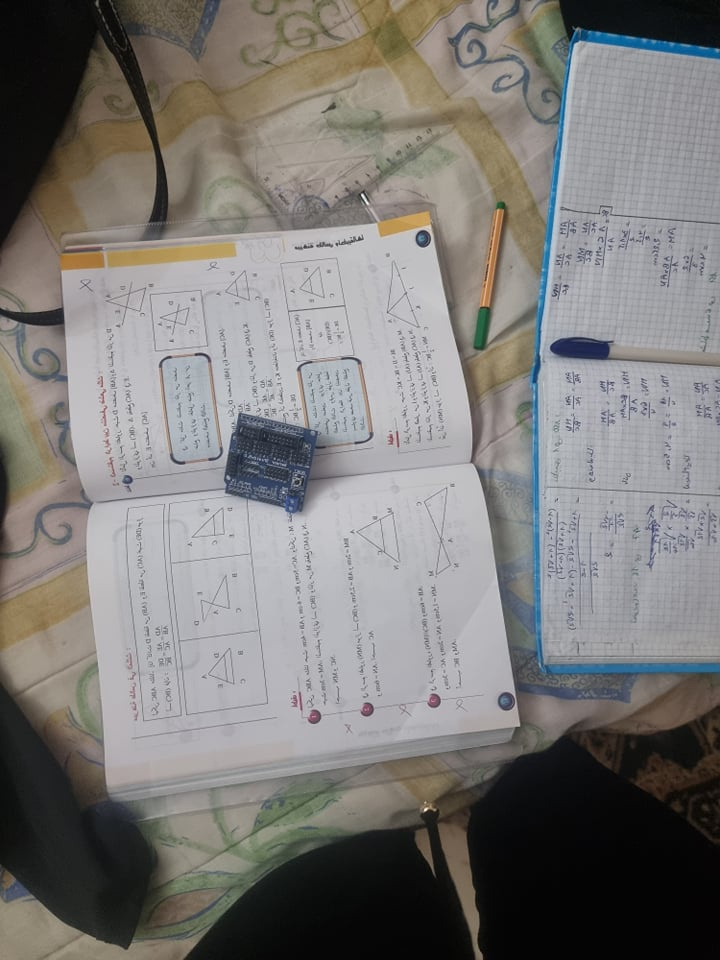5V EXPANSION: (223, 412, 317, 516)
